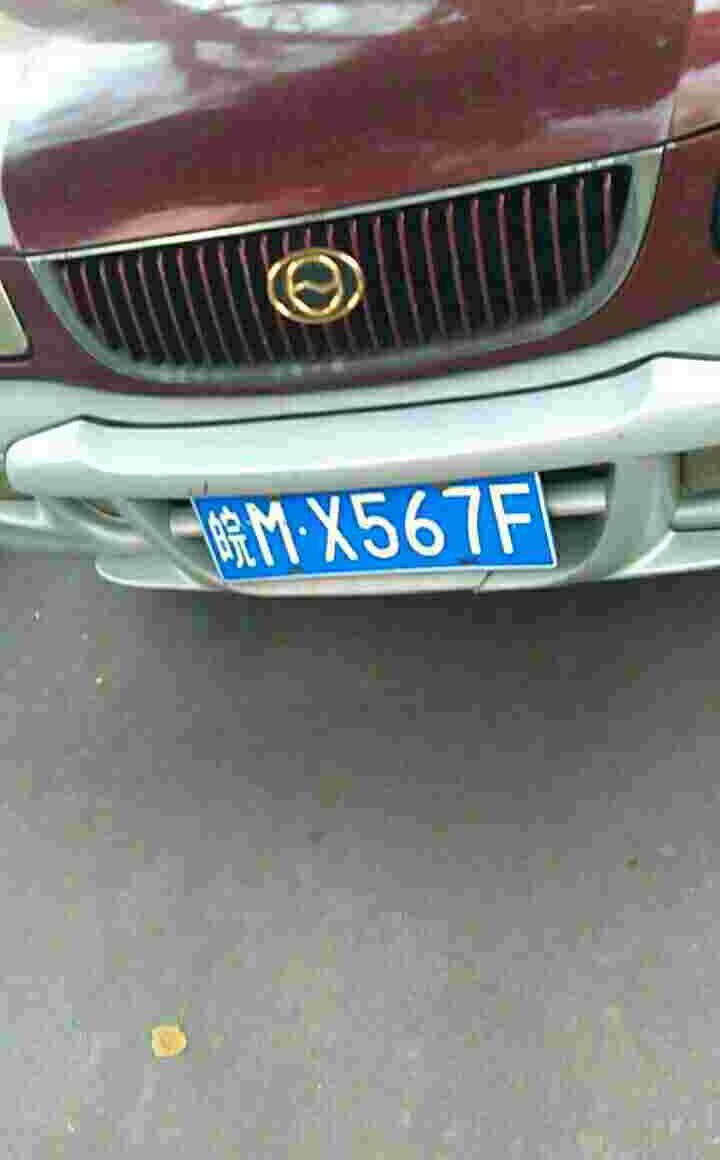license_plate: (200, 477, 540, 580)
